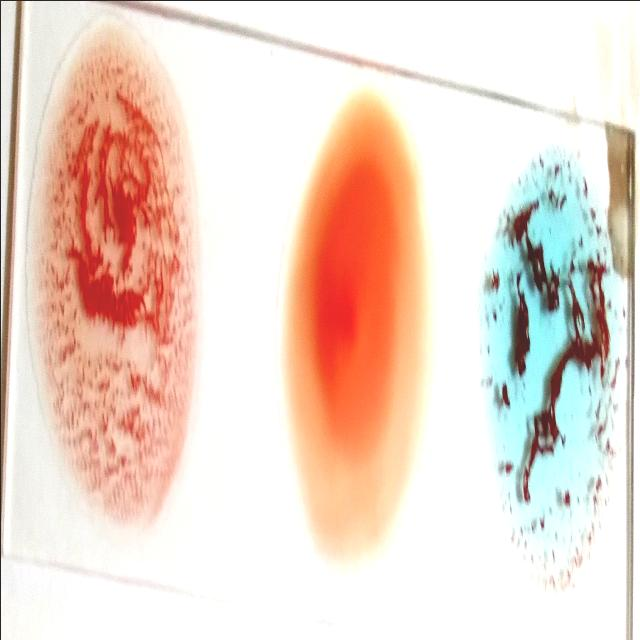A: (482, 128, 614, 590)
D: (36, 26, 194, 512)
